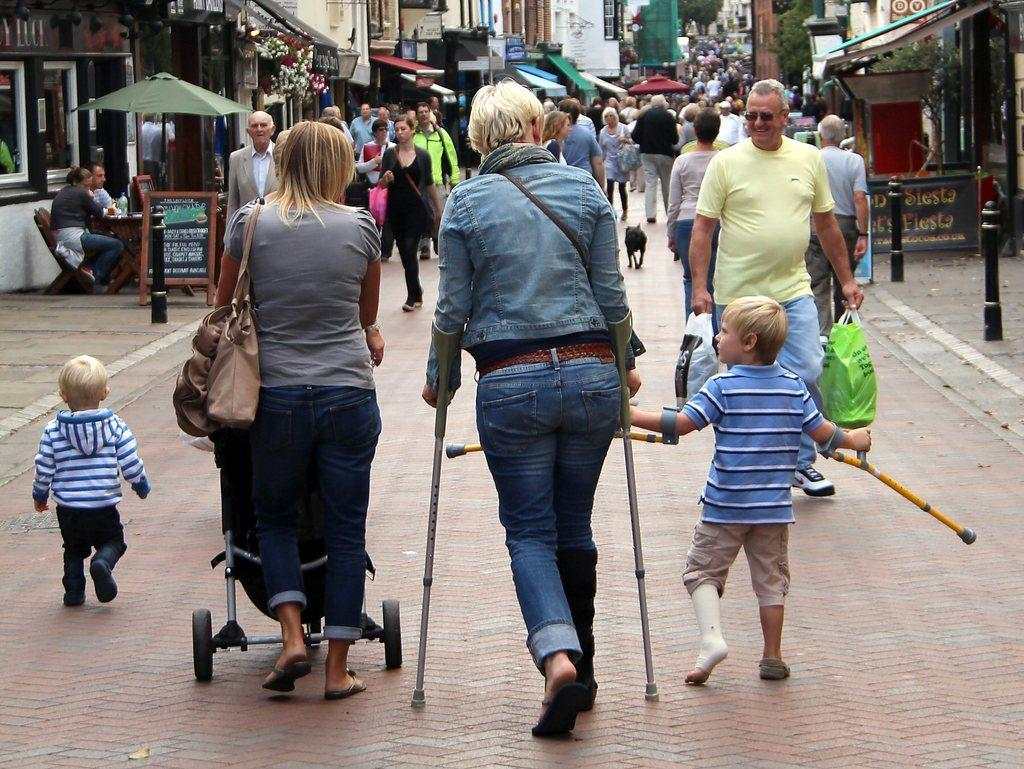crutches: (405, 70, 667, 753), (615, 282, 979, 695)
